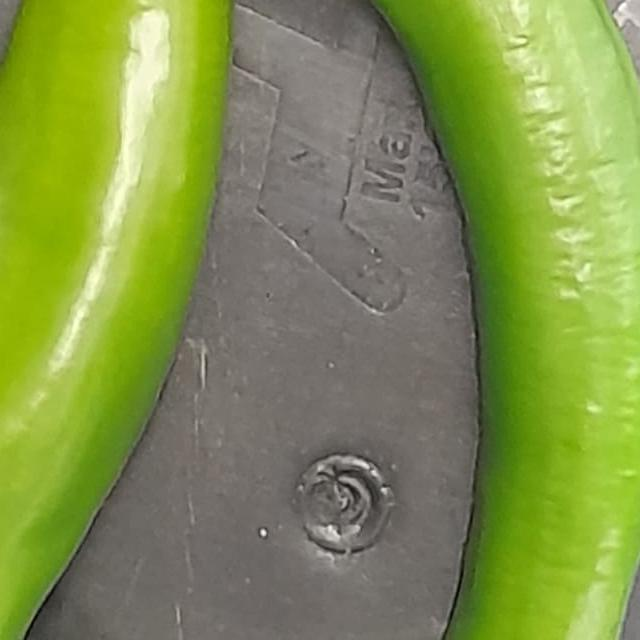chili_pepper: (170, 0, 640, 640), (0, 0, 346, 640)
